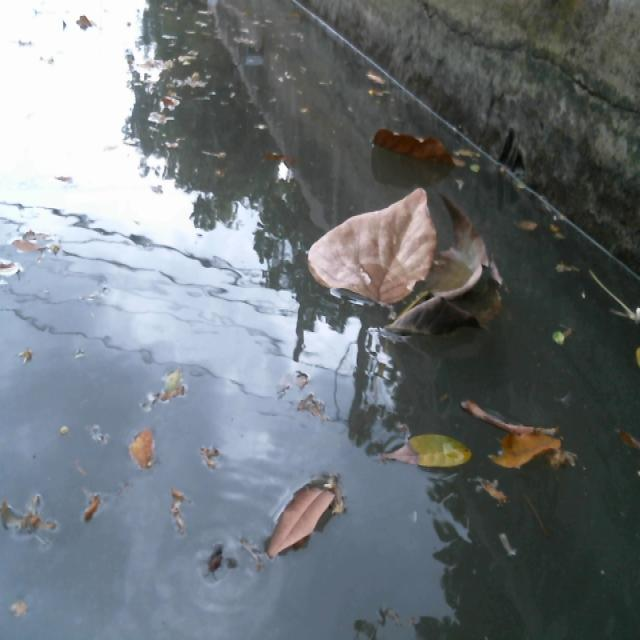Big-leaf: (381, 207, 507, 338), (296, 194, 437, 310), (469, 394, 585, 489), (370, 114, 470, 177)
Small-leaf: (251, 469, 347, 569), (382, 410, 470, 478), (125, 425, 160, 480), (162, 349, 192, 407), (511, 203, 542, 238), (368, 68, 390, 104), (267, 146, 299, 166), (552, 325, 576, 349), (626, 344, 640, 373)
